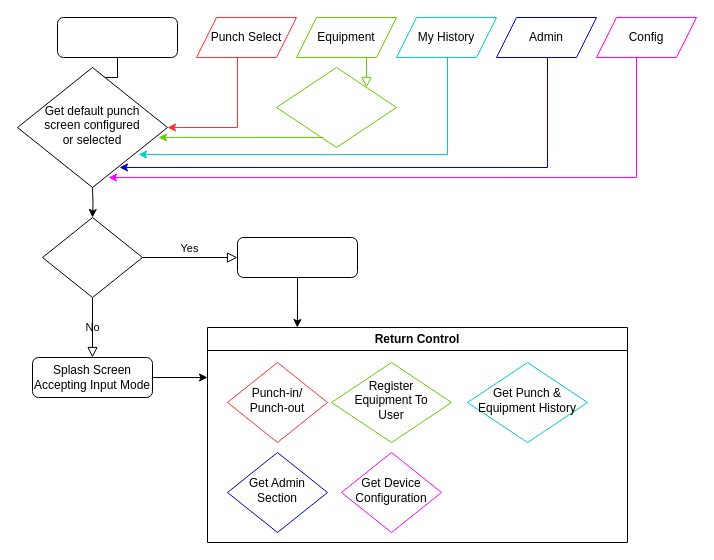
This 714x560 diagram has some shape labels left out. Here are the shapes that lost their labels. From the top down, the box of each, then its label:
(56, 16, 178, 58): Splash Screen
(276, 66, 396, 148): Get Equipment for Location
(42, 216, 142, 298): Is user interaction required?
(236, 236, 358, 278): Punch Screen
